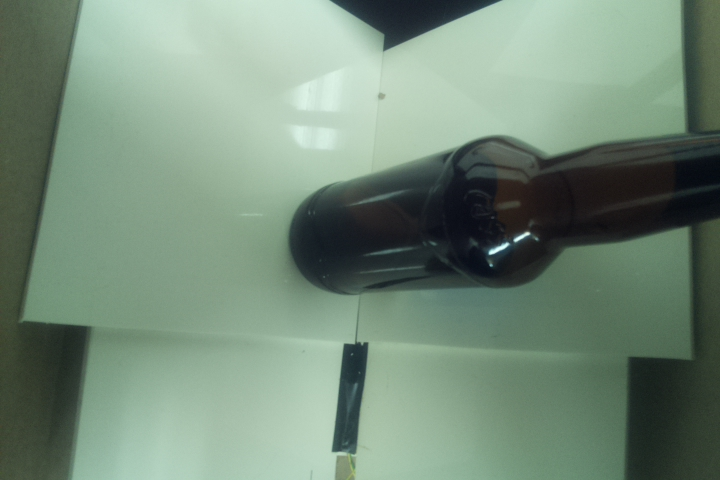makju: (288, 123, 720, 297)
